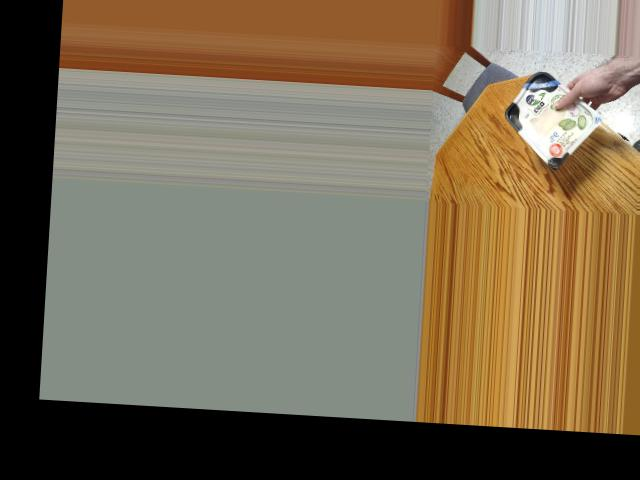cheese: (501, 76, 588, 160)
